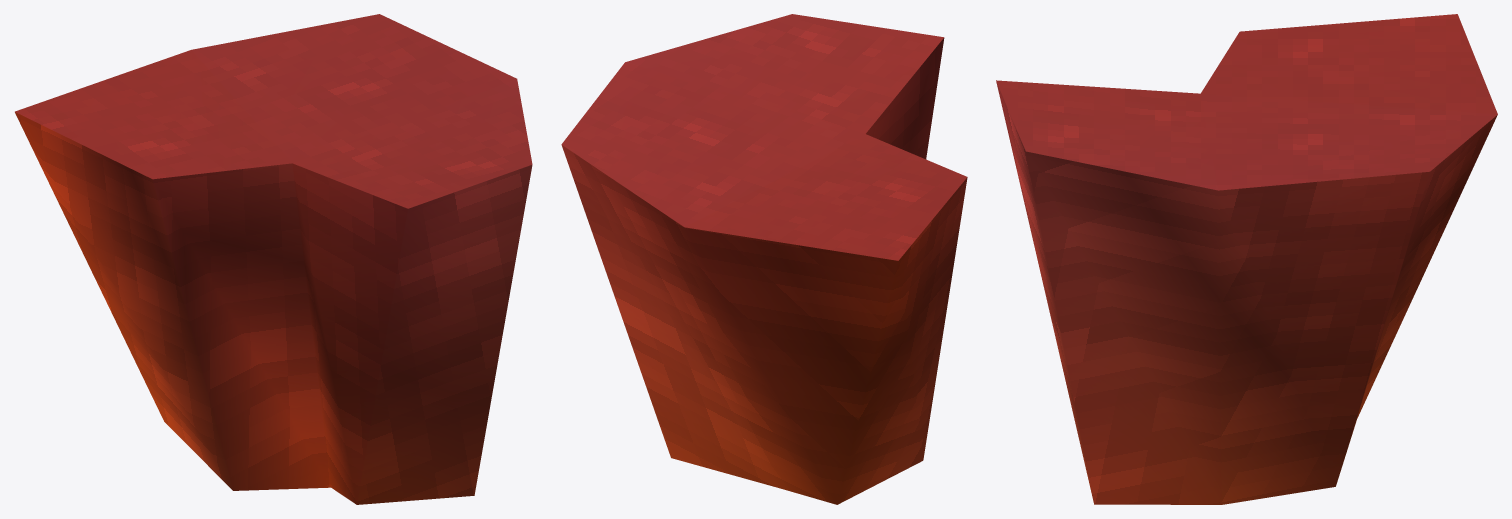
Rendered from DECO_FLOATING_ROCK_2.glb.
The picture shows the model from 3 angles, left to right: view 1: azimuth 30°, elevation 25°; view 2: azimuth 150°, elevation 25°; view 3: azimuth 270°, elevation 25°; orthographic projection. The views are drawn at different scales.
Visible parts, largest first — view 1: DECO_FLOATING_ROCK_2; view 2: DECO_FLOATING_ROCK_2; view 3: DECO_FLOATING_ROCK_2.
Part boxes in pixels (<box>): DECO_FLOATING_ROCK_2: <box>15,14,532,504</box>; DECO_FLOATING_ROCK_2: <box>561,14,967,504</box>; DECO_FLOATING_ROCK_2: <box>996,14,1497,504</box>.
Bounding box in the file's own units: 2.16 × 1.87 × 2.3.
2 materials, 2 textured.
